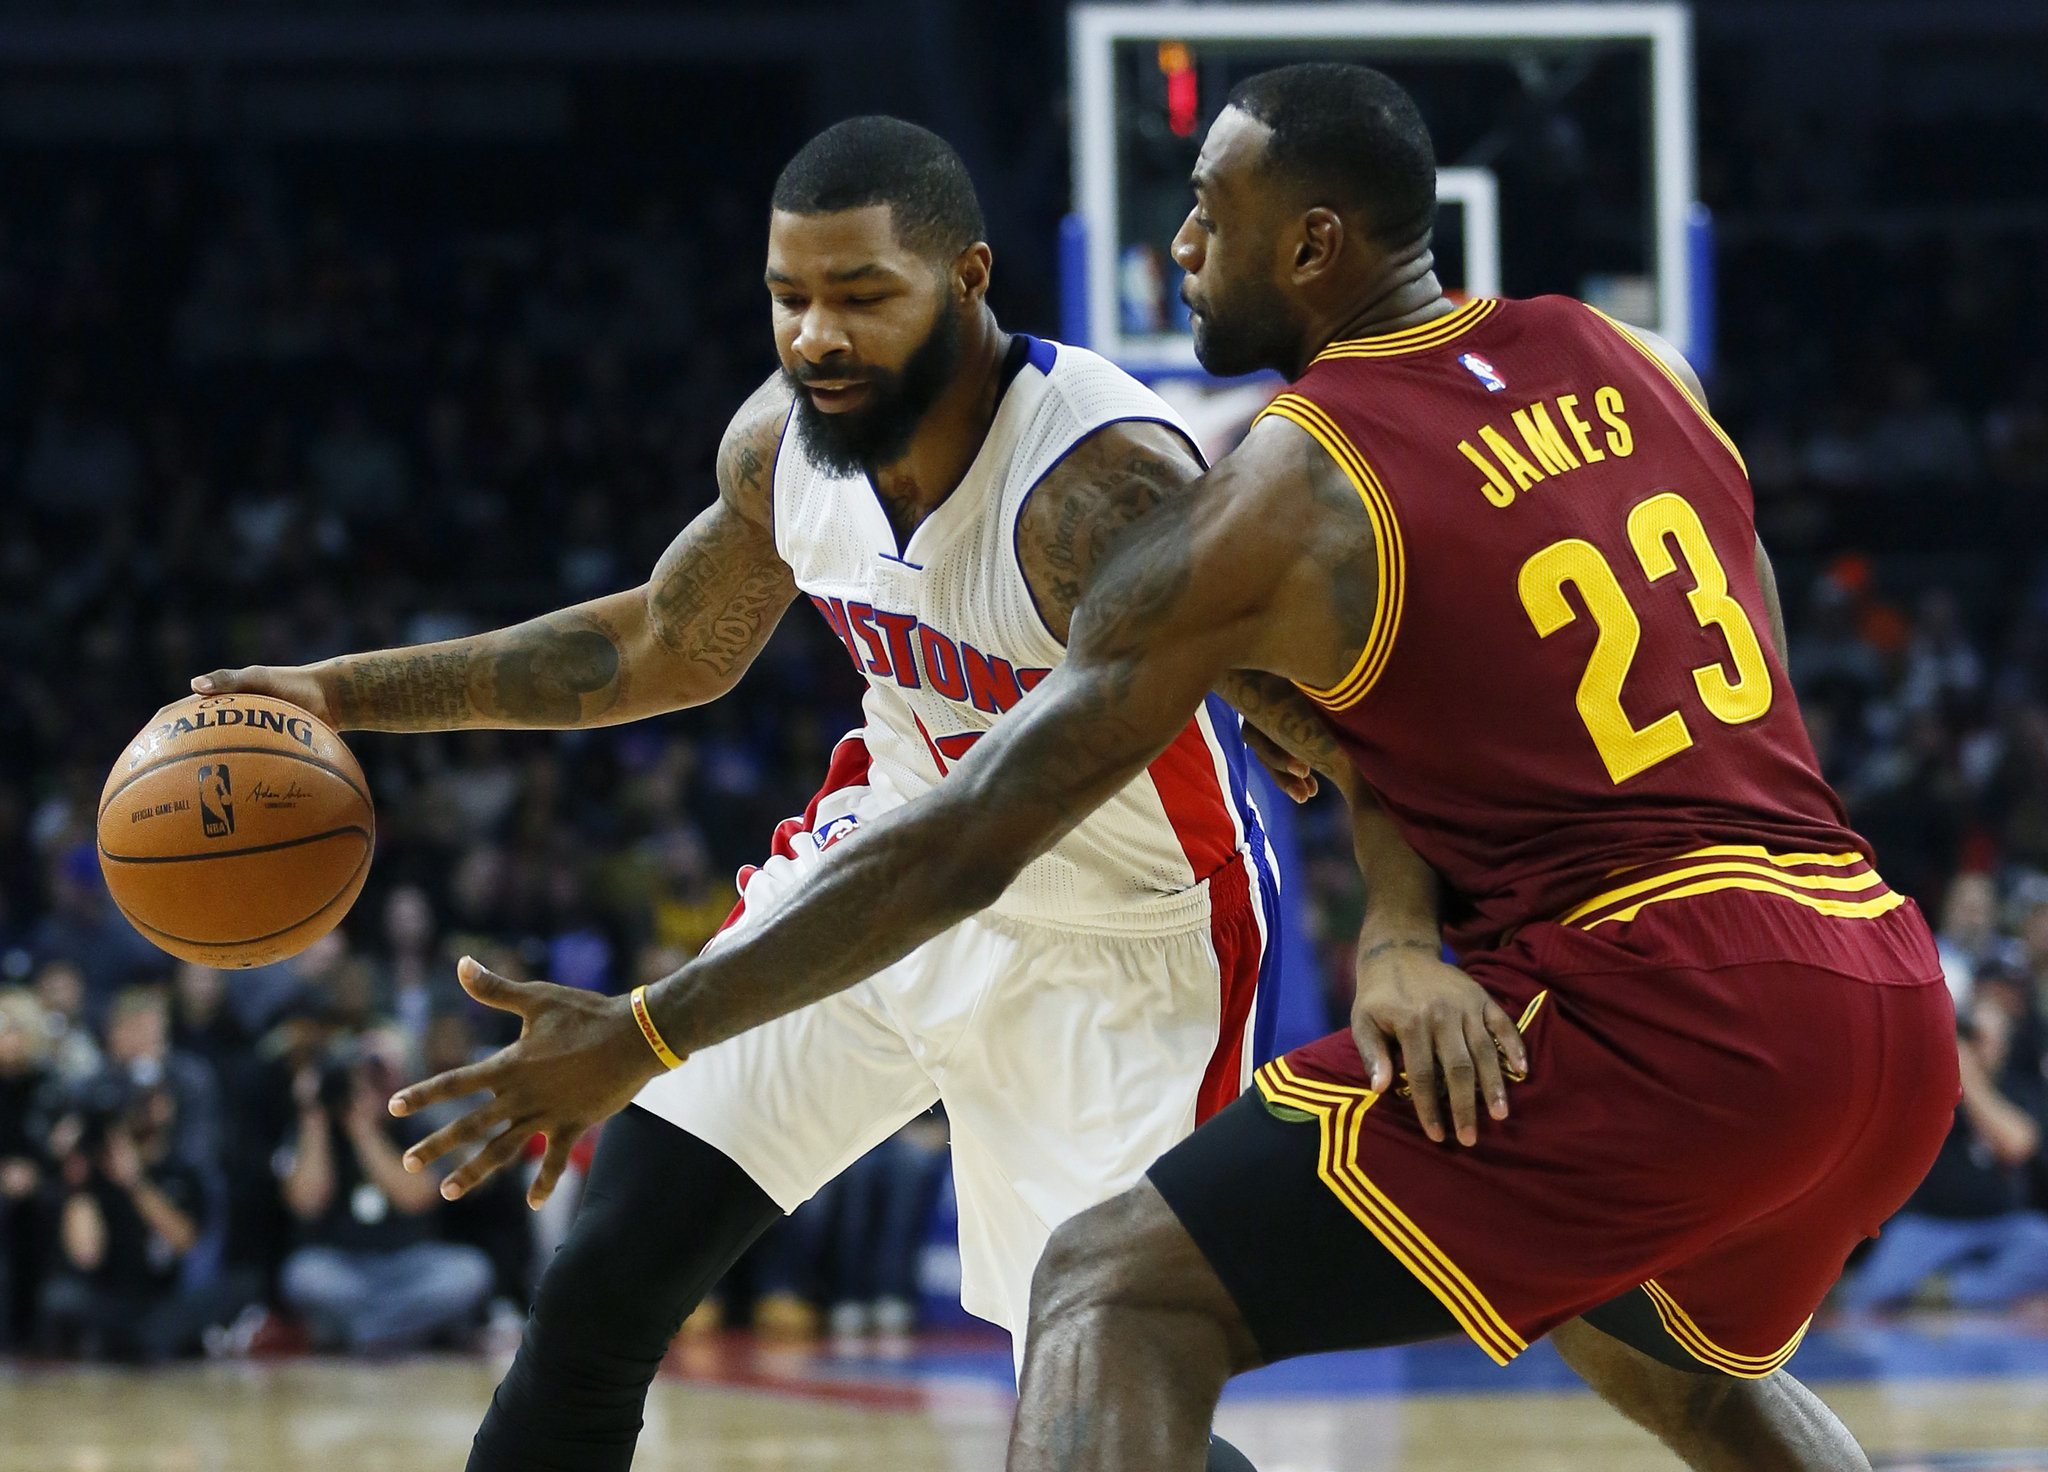basketball: (86, 680, 389, 985)
basketball player: (1038, 37, 1992, 1468), (357, 58, 1157, 1459)
